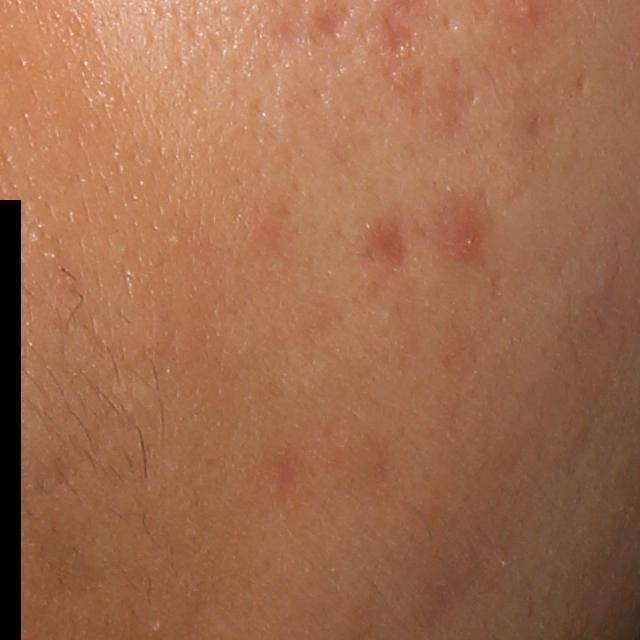atrophic_scar: (384, 14, 413, 60), (575, 71, 590, 92)
